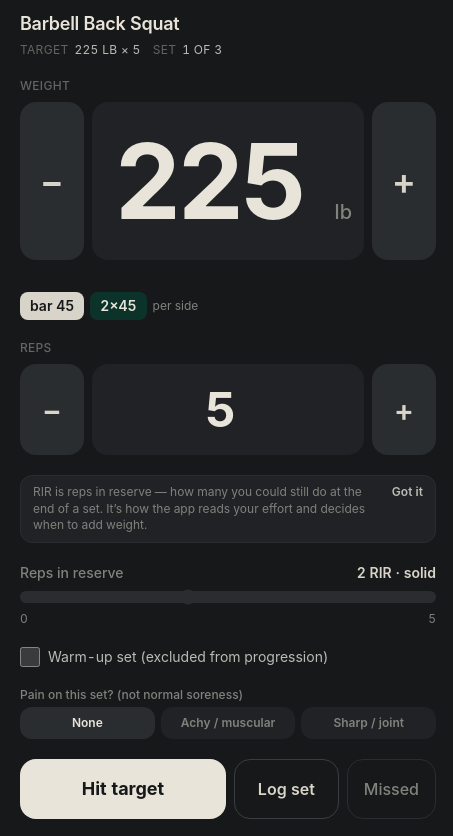
Test case: LogSet screen › recomputes plates when the weight changes
The width and height of the screenshot is (453, 836).
Step 1. Click the button named "decrease weight" → (52, 181), box [20,102,84,260]
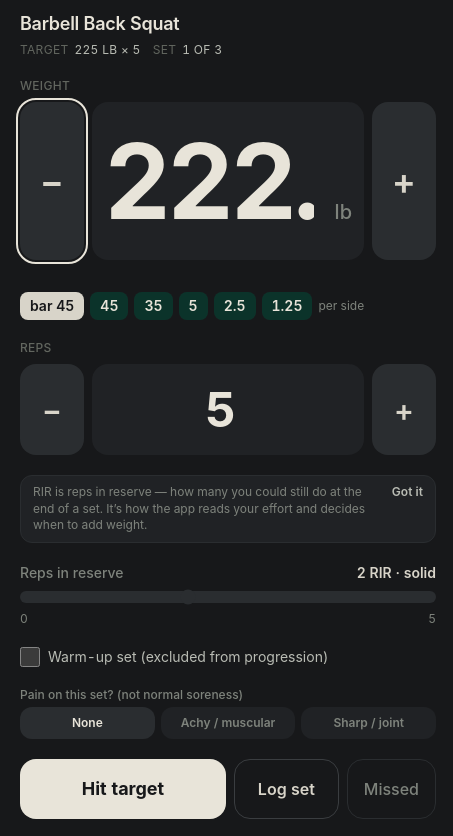
Expected: the number field with test id "weight-input" holds "222.5", [104,118,329,244]
Expected: the text "35" is shown, [134,292,173,320]
Expected: the text "1.25" is shown, [262,292,312,320]
